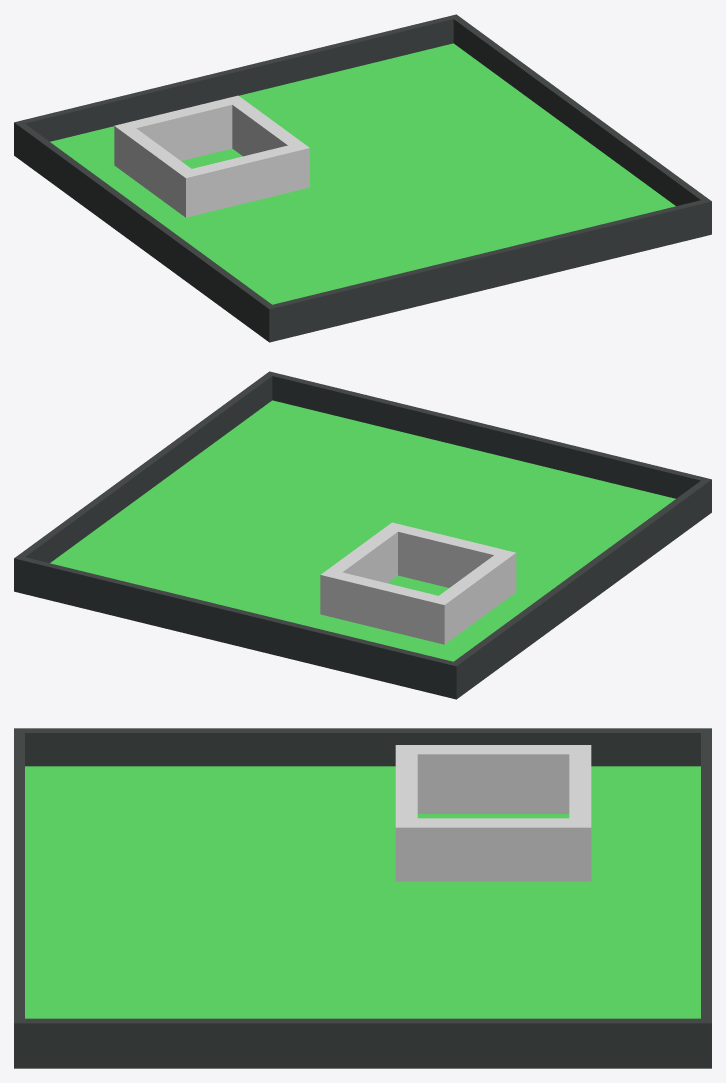
3 renders of one model, top to bottom at view 1: azimuth 30°, elevation 25°; view 2: azimuth 150°, elevation 25°; view 3: azimuth 270°, elevation 25°, orthographic. The views are drawn at different scales.
Visible parts, largest first — view 1: Cube; view 2: Cube; view 3: Cube.
Part boxes in pixels (left/top/right/bottom): Cube: left=14, top=14, right=711, bottom=342; Cube: left=14, top=371, right=711, bottom=699; Cube: left=14, top=728, right=711, bottom=1068.
Bounding box in the file's own units: 7.13 × 0.7457 × 7.13.
